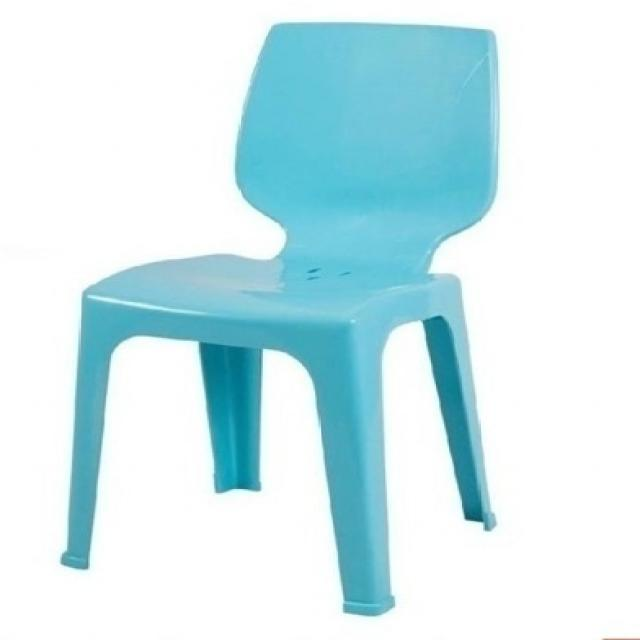Chair: (55, 15, 508, 618)
